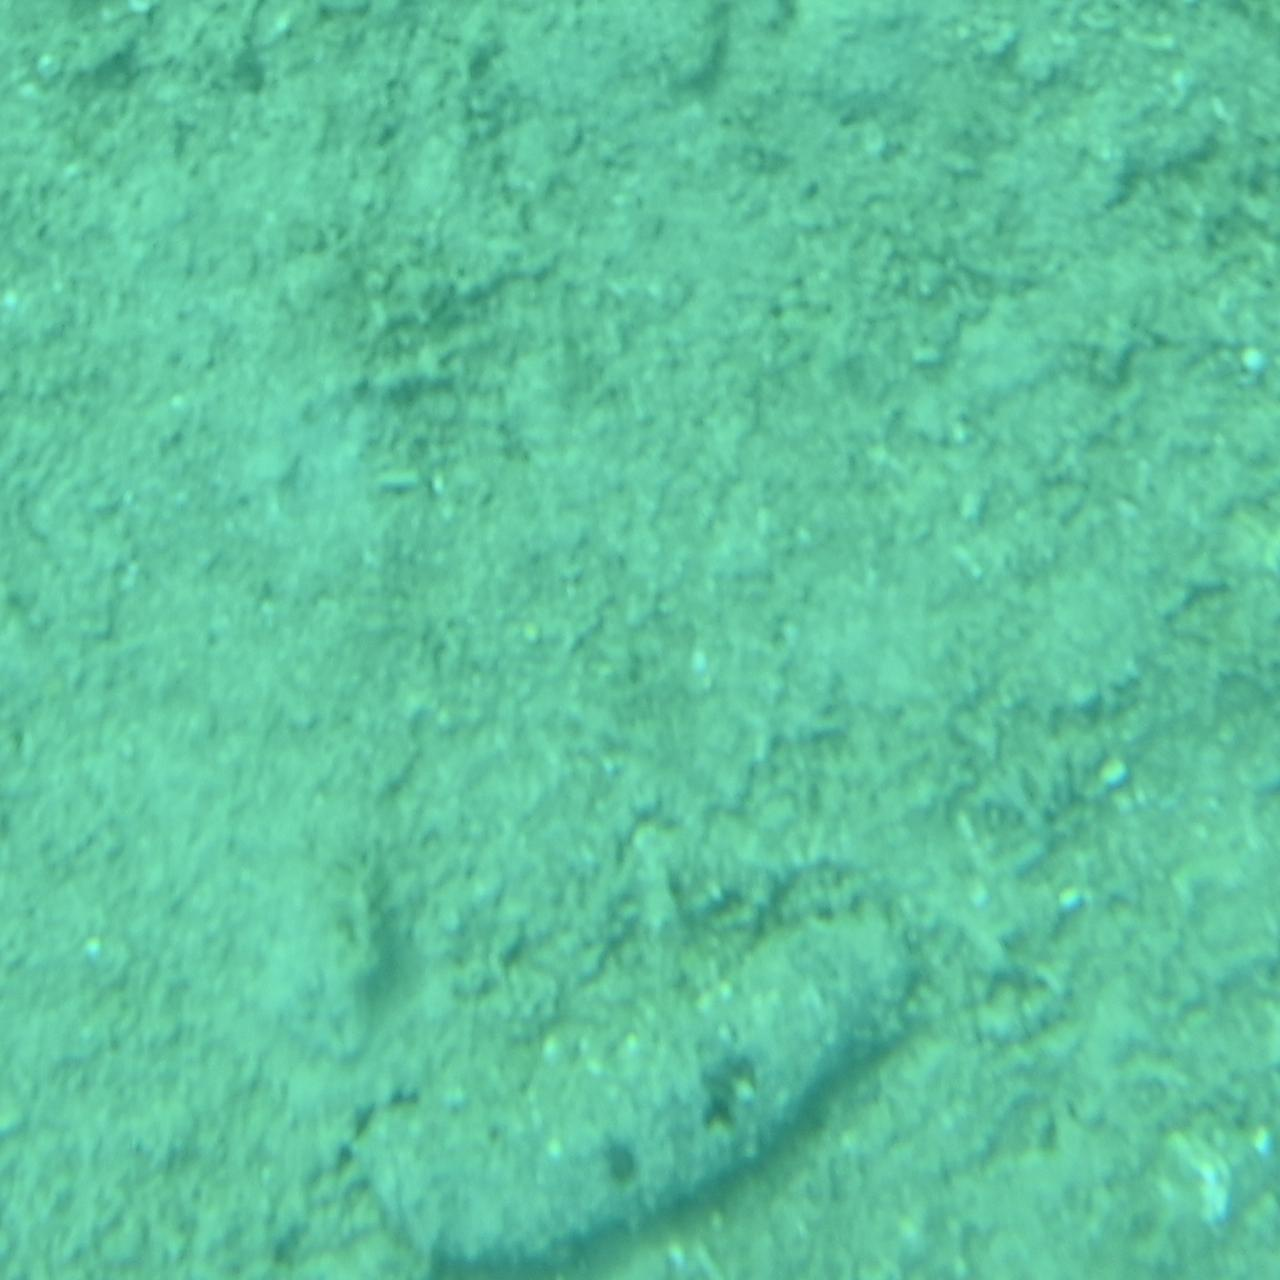Holothuria tubulosa: (348, 903, 932, 1280)
